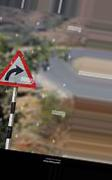right: (1, 49, 35, 89)
